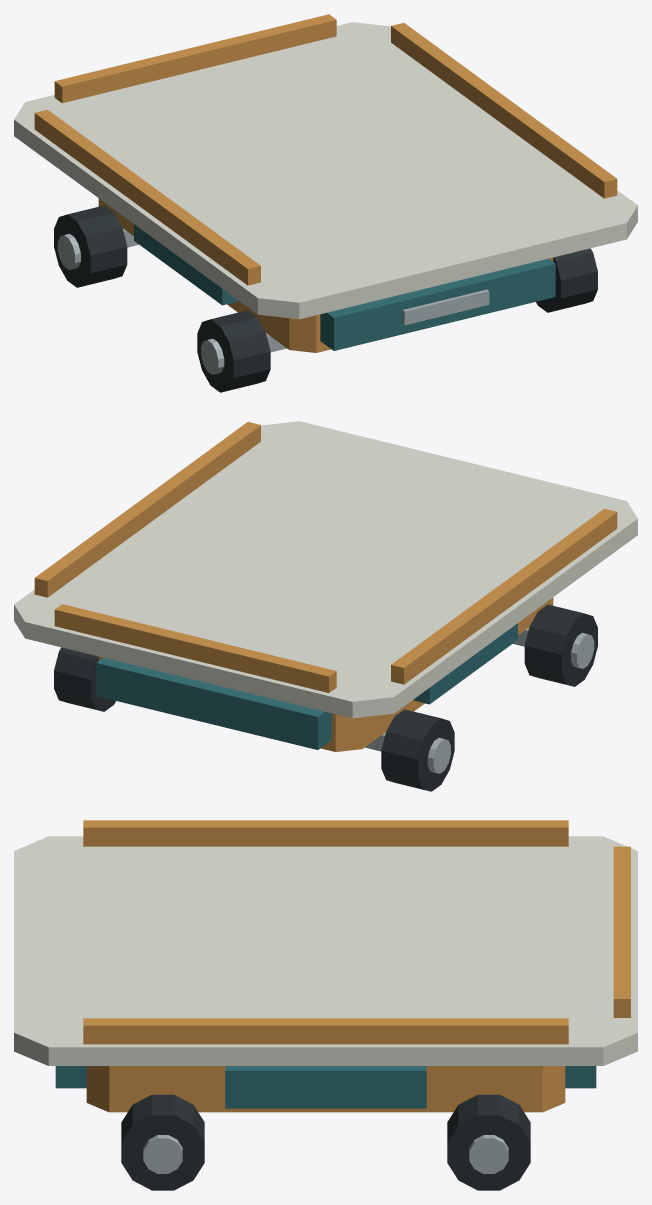
The picture shows the model from 3 angles, top to bottom: view 1: azimuth 30°, elevation 25°; view 2: azimuth 150°, elevation 25°; view 3: azimuth 270°, elevation 25°; orthographic projection. The views are drawn at different scales.
Visible parts, largest first — view 1: IndependentWideLoadingDeck, FrontExternalGuard, RearLowDeckEdgeStop, LeftLowDeckEdgeStop, RightLowDeckEdgeStop, AftLeftWheel, ForwardLeftWheel, ForwardRightWheel, ClosedLowElectronicsChassis, LeftExternalGuard, OpaqueFrontIdentificationPanel, ForwardLeftHub (+1 smaller); view 2: IndependentWideLoadingDeck, RearExternalGuard, RearLowDeckEdgeStop, LeftLowDeckEdgeStop, RightLowDeckEdgeStop, AftLeftWheel, ForwardLeftWheel, AftRightWheel, ClosedLowElectronicsChassis, LeftExternalGuard, AftLeftHub, ForwardLeftHub; view 3: IndependentWideLoadingDeck, LeftLowDeckEdgeStop, RightLowDeckEdgeStop, ClosedLowElectronicsChassis, RightExternalGuard, AftRightWheel, ForwardRightWheel, RearLowDeckEdgeStop, AftRightHub, ForwardRightHub, FrontExternalGuard, RearExternalGuard.
Boxes of the visible parts, x1,y1,x2,y2 form: IndependentWideLoadingDeck: (14, 22, 637, 319); FrontExternalGuard: (320, 258, 555, 350); RearLowDeckEdgeStop: (54, 14, 336, 103); LeftLowDeckEdgeStop: (34, 109, 260, 285); RightLowDeckEdgeStop: (391, 23, 617, 198); AftLeftWheel: (54, 205, 127, 287); ForwardLeftWheel: (197, 310, 270, 392); ForwardRightWheel: (536, 248, 597, 312); ClosedLowElectronicsChassis: (98, 198, 553, 352); LeftExternalGuard: (134, 224, 238, 305); OpaqueFrontIdentificationPanel: (402, 289, 489, 325); ForwardLeftHub: (201, 338, 224, 374); IndependentWideLoadingDeck: (14, 421, 637, 718); RearExternalGuard: (96, 657, 331, 749); RearLowDeckEdgeStop: (54, 604, 336, 692); LeftLowDeckEdgeStop: (391, 508, 617, 684); RightLowDeckEdgeStop: (34, 422, 260, 597); AftLeftWheel: (381, 709, 454, 791); ForwardLeftWheel: (524, 604, 597, 686); AftRightWheel: (54, 647, 115, 711); ClosedLowElectronicsChassis: (98, 597, 553, 751); LeftExternalGuard: (413, 623, 517, 704); AftLeftHub: (427, 737, 450, 773); ForwardLeftHub: (571, 633, 594, 668); IndependentWideLoadingDeck: (14, 836, 637, 1065); LeftLowDeckEdgeStop: (83, 820, 568, 846); RightLowDeckEdgeStop: (83, 1018, 568, 1044); ClosedLowElectronicsChassis: (86, 1066, 565, 1112); RightExternalGuard: (225, 1066, 426, 1108); AftRightWheel: (447, 1094, 530, 1190); ForwardRightWheel: (121, 1094, 204, 1190); RearLowDeckEdgeStop: (613, 846, 630, 1017); AftRightHub: (469, 1135, 508, 1173); ForwardRightHub: (143, 1135, 182, 1173); FrontExternalGuard: (55, 1066, 86, 1088); RearExternalGuard: (565, 1066, 596, 1088).
Bounding box in the file's own units: 1.44 × 0.53 × 1.8.
